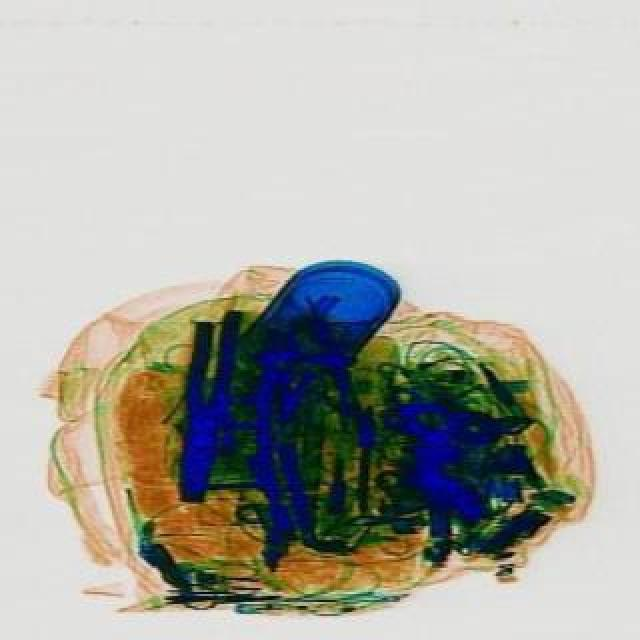wrench: (164, 304, 242, 504)
